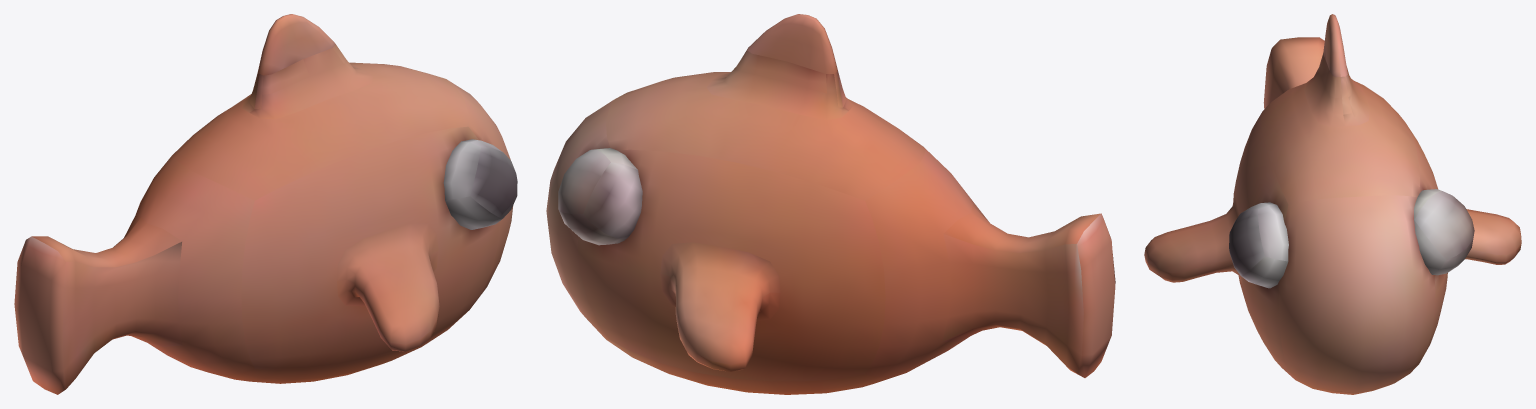
Rendered from fish.glb.
The picture shows the model from 3 angles, left to right: view 1: azimuth 30°, elevation 25°; view 2: azimuth 150°, elevation 25°; view 3: azimuth 270°, elevation 25°; orthographic projection. The views are drawn at different scales.
Parts seen in each view (by area): view 1: Fish_Fourth_Hover_Raycaster; view 2: Fish_Fourth_Hover_Raycaster; view 3: Fish_Fourth_Hover_Raycaster.
Part boxes in pixels (box(x1,y1,x2,y2)): Fish_Fourth_Hover_Raycaster: box(14, 14, 517, 394); Fish_Fourth_Hover_Raycaster: box(546, 14, 1115, 394); Fish_Fourth_Hover_Raycaster: box(1144, 14, 1521, 394).
Size of the model in its own units: 0.5533 by 0.3811 by 0.3961.
1 material, 1 textured.
